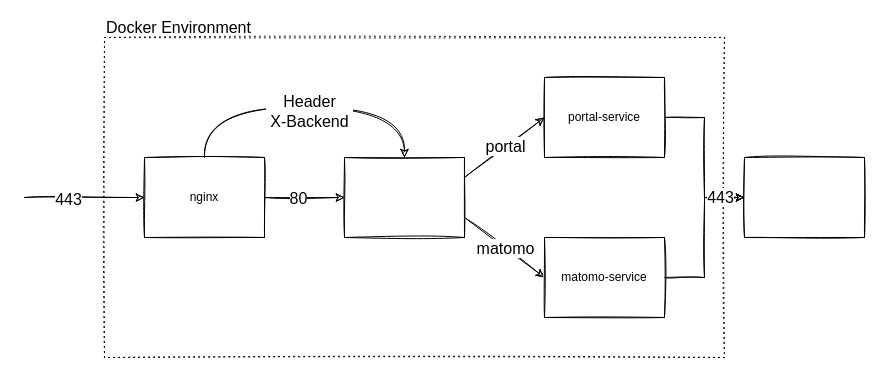
Some shapes in this 882 by 375 pixel diagram are drawn without their labels. Here are the shapes that lost their labels. From the top down, the box of each, then its label:
(344, 156, 464, 238): wai-cache
(744, 156, 864, 238): online portal
